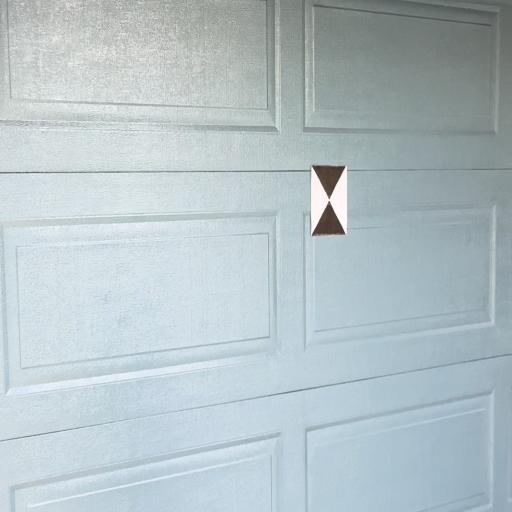target: (310, 166, 346, 235)
